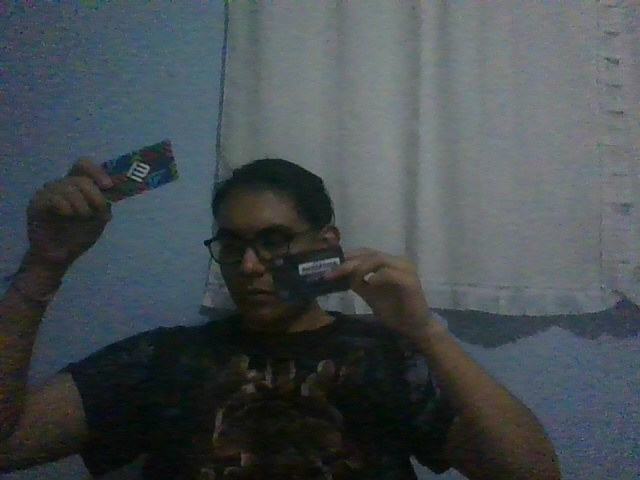tarjeta: (98, 137, 179, 203), (267, 245, 351, 303)
